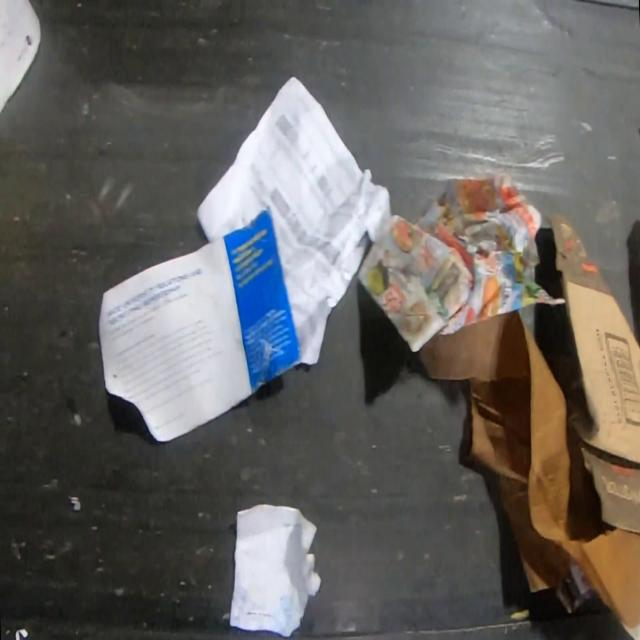cardboard: (418, 307, 640, 633), (549, 215, 639, 538)
